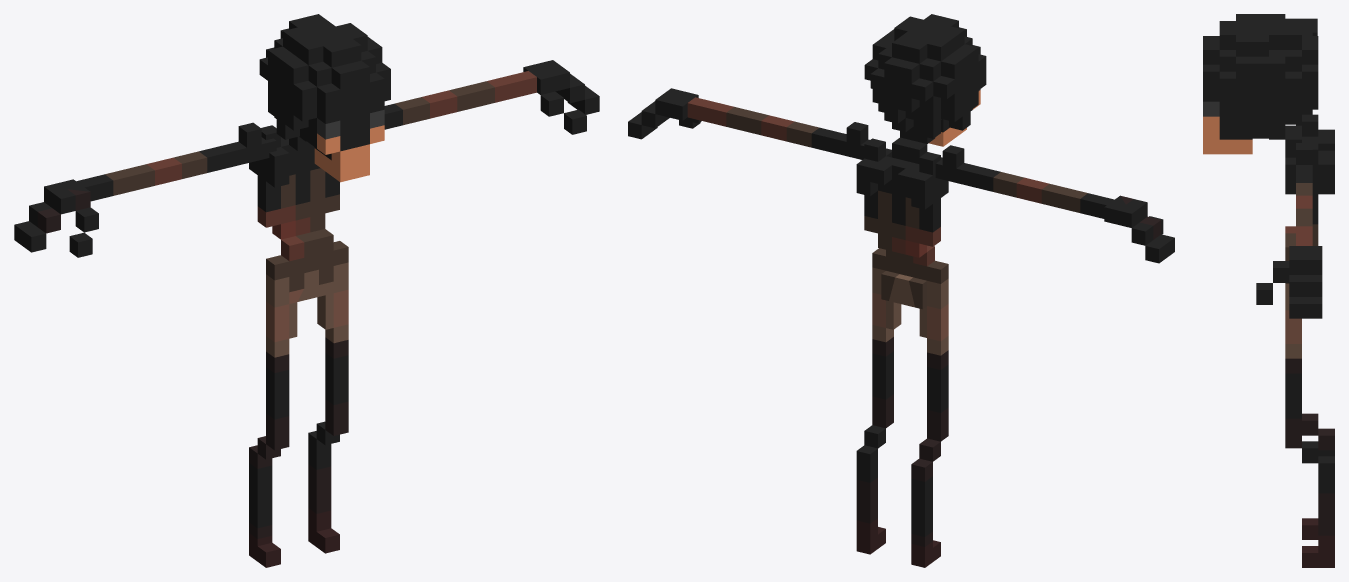
Rendered from Tpose_NoAnim_bourreau.fbx.
3 renders of one model, left to right at view 1: azimuth 30°, elevation 25°; view 2: azimuth 150°, elevation 25°; view 3: azimuth 270°, elevation 25°, orthographic. The views are drawn at different scales.
Parts seen in each view (by area): view 1: polySurface246, polySurface267, polySurface268, polySurface271, polySurface269, polySurface242, polySurface241, polySurface262, polySurface256, polySurface257, polySurface264, polySurface361 (+8 smaller); view 2: polySurface246, polySurface267, polySurface268, polySurface271, polySurface269, polySurface242, polySurface241, polySurface257, polySurface262, polySurface256, polySurface264, polySurface361 (+7 smaller); view 3: polySurface246, polySurface267, polySurface271, polySurface242, polySurface367, polySurface368, polySurface239, polySurface241, polySurface369, polySurface257, polySurface262, polySurface236 (+3 smaller).
Boxes of the visible parts, bbox=[...] form: polySurface246: bbox=[259, 14, 390, 182]; polySurface267: bbox=[249, 125, 339, 239]; polySurface268: bbox=[266, 274, 297, 450]; polySurface271: bbox=[317, 262, 348, 435]; polySurface269: bbox=[266, 229, 348, 303]; polySurface242: bbox=[308, 421, 339, 513]; polySurface241: bbox=[249, 436, 280, 528]; polySurface262: bbox=[449, 71, 536, 111]; polySurface256: bbox=[146, 145, 232, 185]; polySurface257: bbox=[384, 90, 457, 129]; polySurface264: bbox=[76, 164, 154, 201]; polySurface361: bbox=[14, 202, 60, 252]; polySurface246: bbox=[864, 14, 986, 163]; polySurface267: bbox=[856, 138, 948, 257]; polySurface268: bbox=[919, 278, 948, 441]; polySurface271: bbox=[872, 267, 901, 428]; polySurface269: bbox=[872, 245, 948, 309]; polySurface242: bbox=[856, 425, 885, 523]; polySurface241: bbox=[911, 438, 940, 536]; polySurface257: bbox=[761, 115, 843, 153]; polySurface262: bbox=[687, 97, 768, 135]; polySurface256: bbox=[970, 166, 1049, 203]; polySurface264: bbox=[1041, 184, 1114, 218]; polySurface361: bbox=[1131, 216, 1174, 263]; polySurface246: bbox=[1203, 14, 1318, 154]; polySurface267: bbox=[1285, 114, 1334, 245]; polySurface271: bbox=[1285, 284, 1301, 448]; polySurface242: bbox=[1302, 441, 1334, 535]; polySurface367: bbox=[1289, 275, 1322, 318]; polySurface368: bbox=[1289, 246, 1322, 274]; polySurface239: bbox=[1302, 535, 1334, 567]; polySurface241: bbox=[1302, 413, 1334, 456]; polySurface369: bbox=[1256, 261, 1289, 304]; polySurface257: bbox=[1296, 170, 1312, 208]; polySurface262: bbox=[1296, 208, 1312, 245]; polySurface236: bbox=[1296, 143, 1312, 169].
Size of the model in its own units: 191 by 173 by 39.64.
